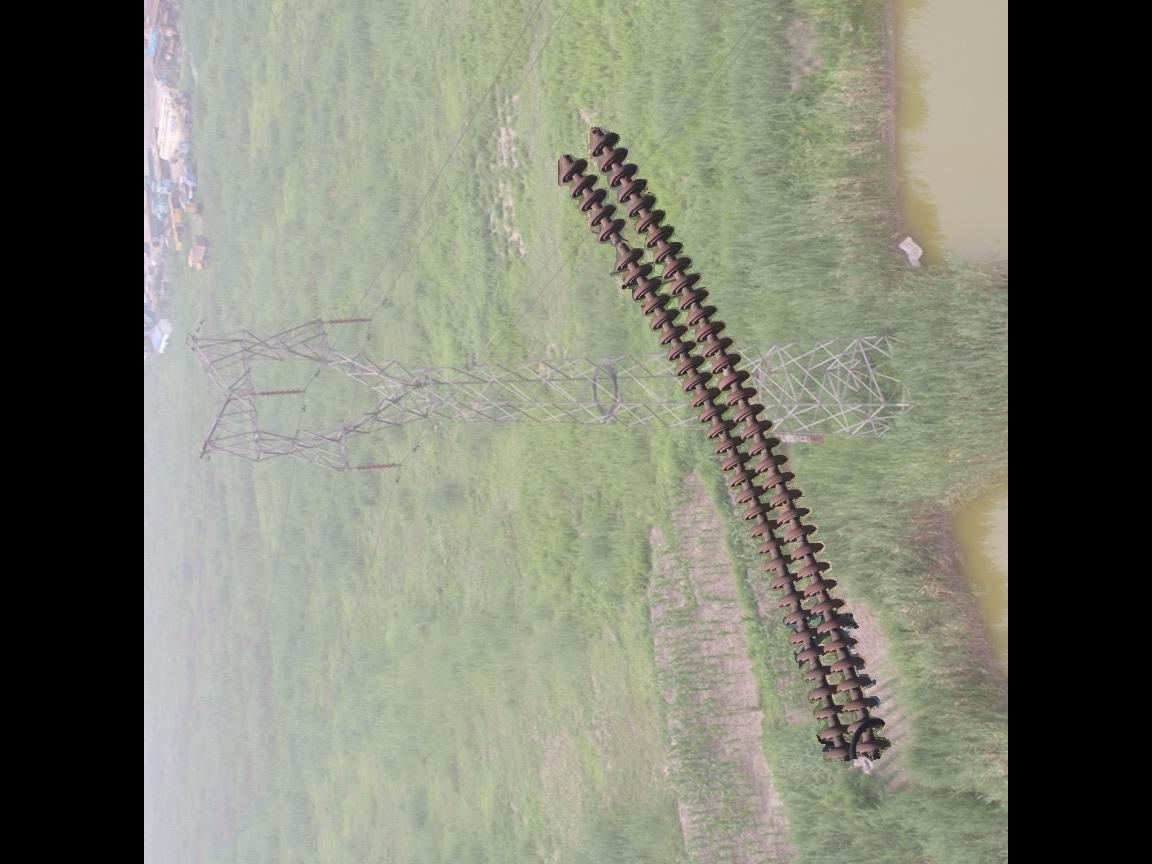insulator: (553, 125, 899, 769)
insulator_stringdrop: (594, 215, 646, 275)
